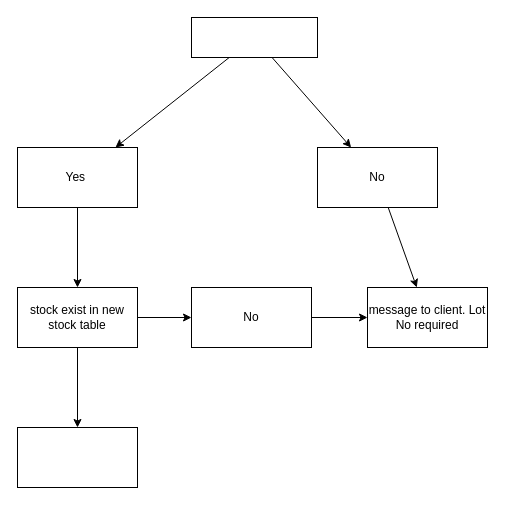
Image size: 505x505. Some labels were removed from this diagram. Each missing label, with the centre of its shape:
Added to stock transaction table: point (77, 457)
Lot No: point (254, 37)
